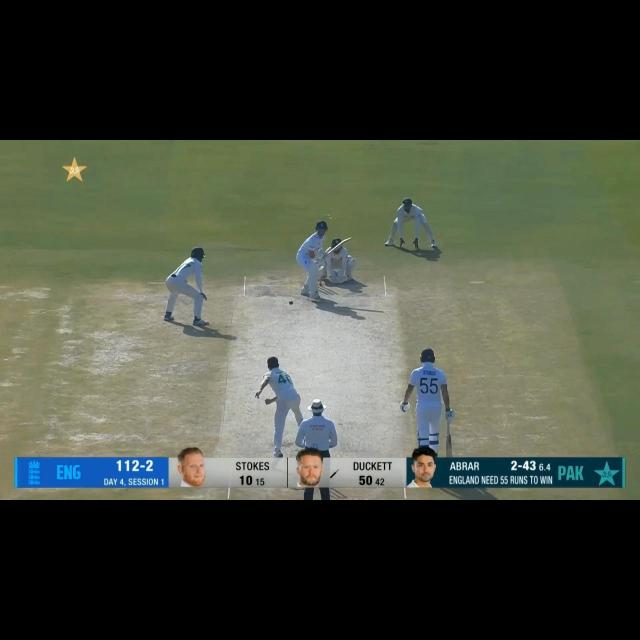bat: (326, 237, 353, 257), (446, 435, 454, 457)
toe: (344, 236, 352, 242)
